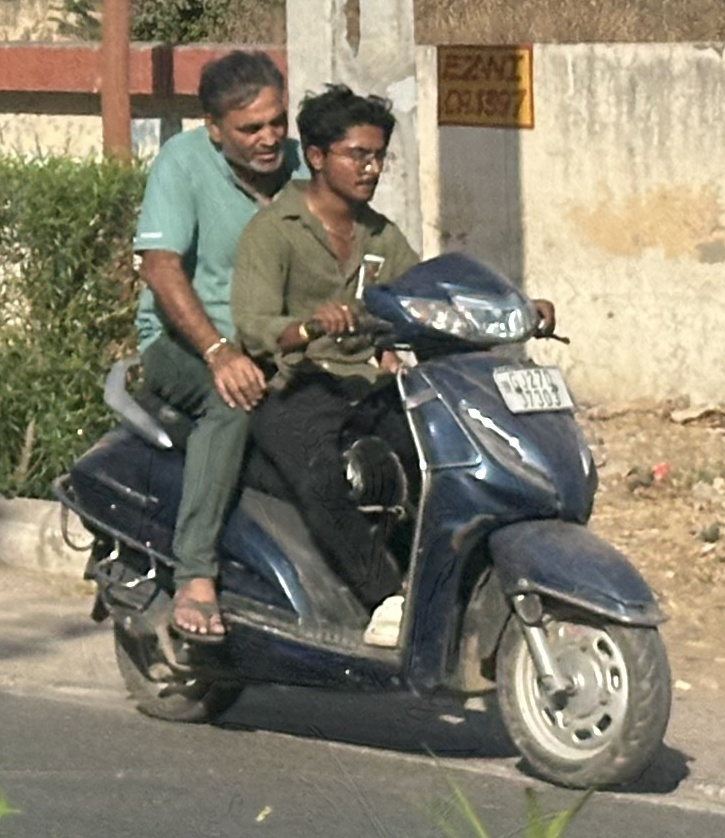BikeWithRider: (44, 41, 683, 796)
NoHelmet: (190, 44, 300, 182), (291, 78, 405, 209)
